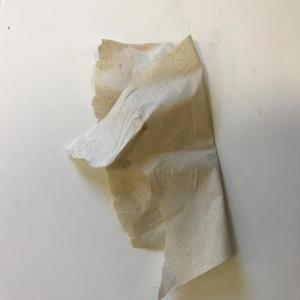Trash: (65, 33, 236, 300)
